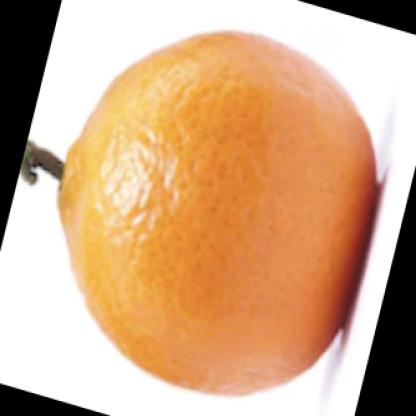fresh: (67, 31, 374, 396)
